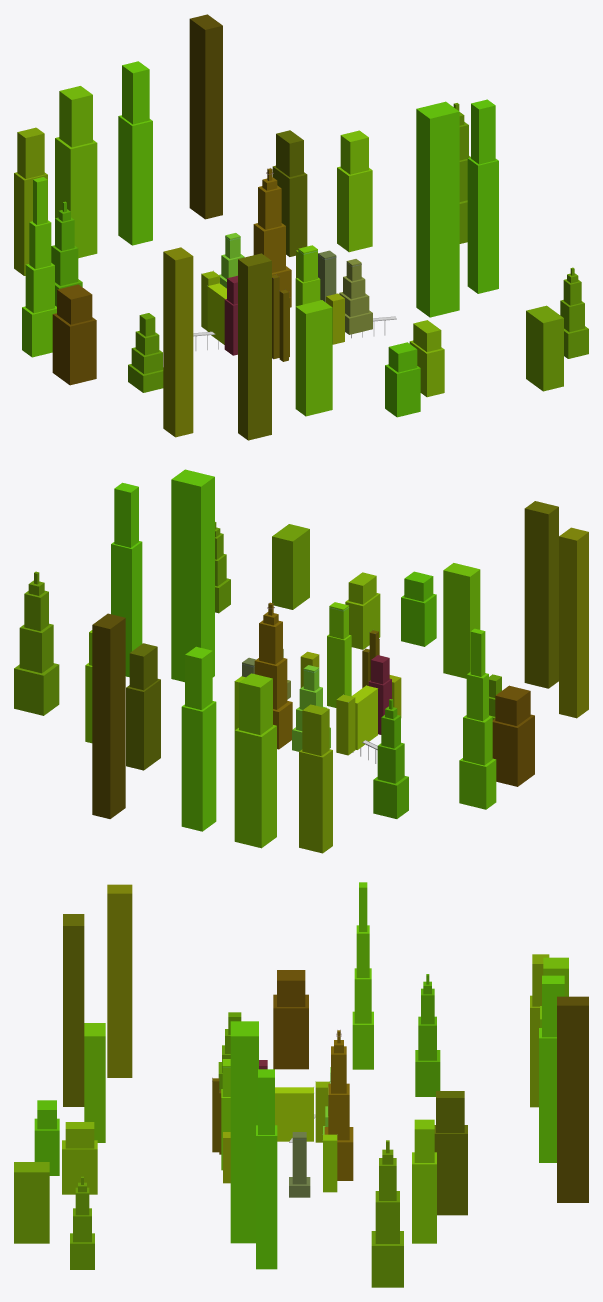
The model's file is hub_skyline.glb.
3 views of the same model, one above another, from view 1: azimuth 30°, elevation 25°; view 2: azimuth 150°, elevation 25°; view 3: azimuth 270°, elevation 25° (orthographic). The views are drawn at different scales.
Visible parts, largest first — view 1: skyline_far, skyline_near; view 2: skyline_far, skyline_near; view 3: skyline_far, skyline_near.
Boxes of the visible parts, x1,y1,x2,y2 form: skyline_far: (14, 14, 588, 440); skyline_near: (201, 168, 372, 361); skyline_far: (14, 469, 588, 853); skyline_near: (234, 602, 401, 755); skyline_far: (14, 882, 588, 1287); skyline_near: (212, 1029, 353, 1197).
Size of the model in its own units: 1538 by 680 by 1612.
